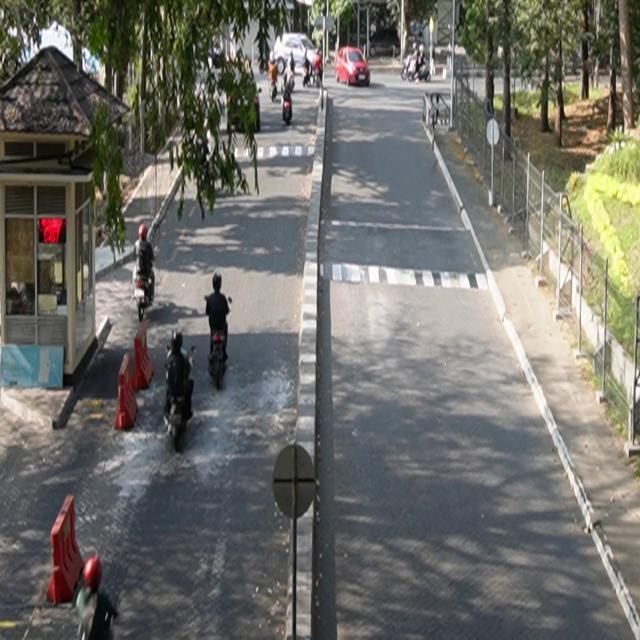car: (336, 47, 371, 87)
